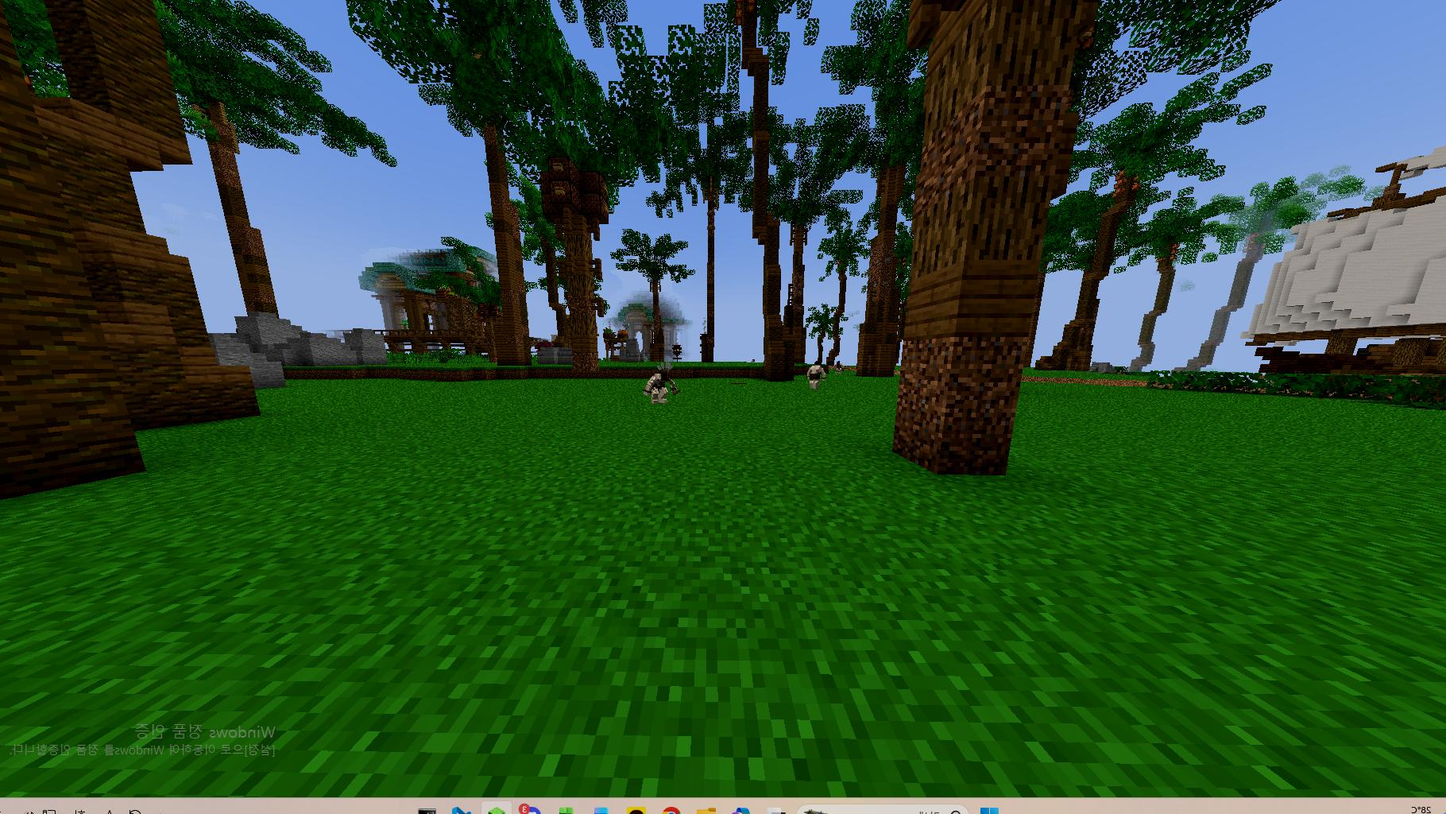bow_indian: (632, 355, 687, 413)
